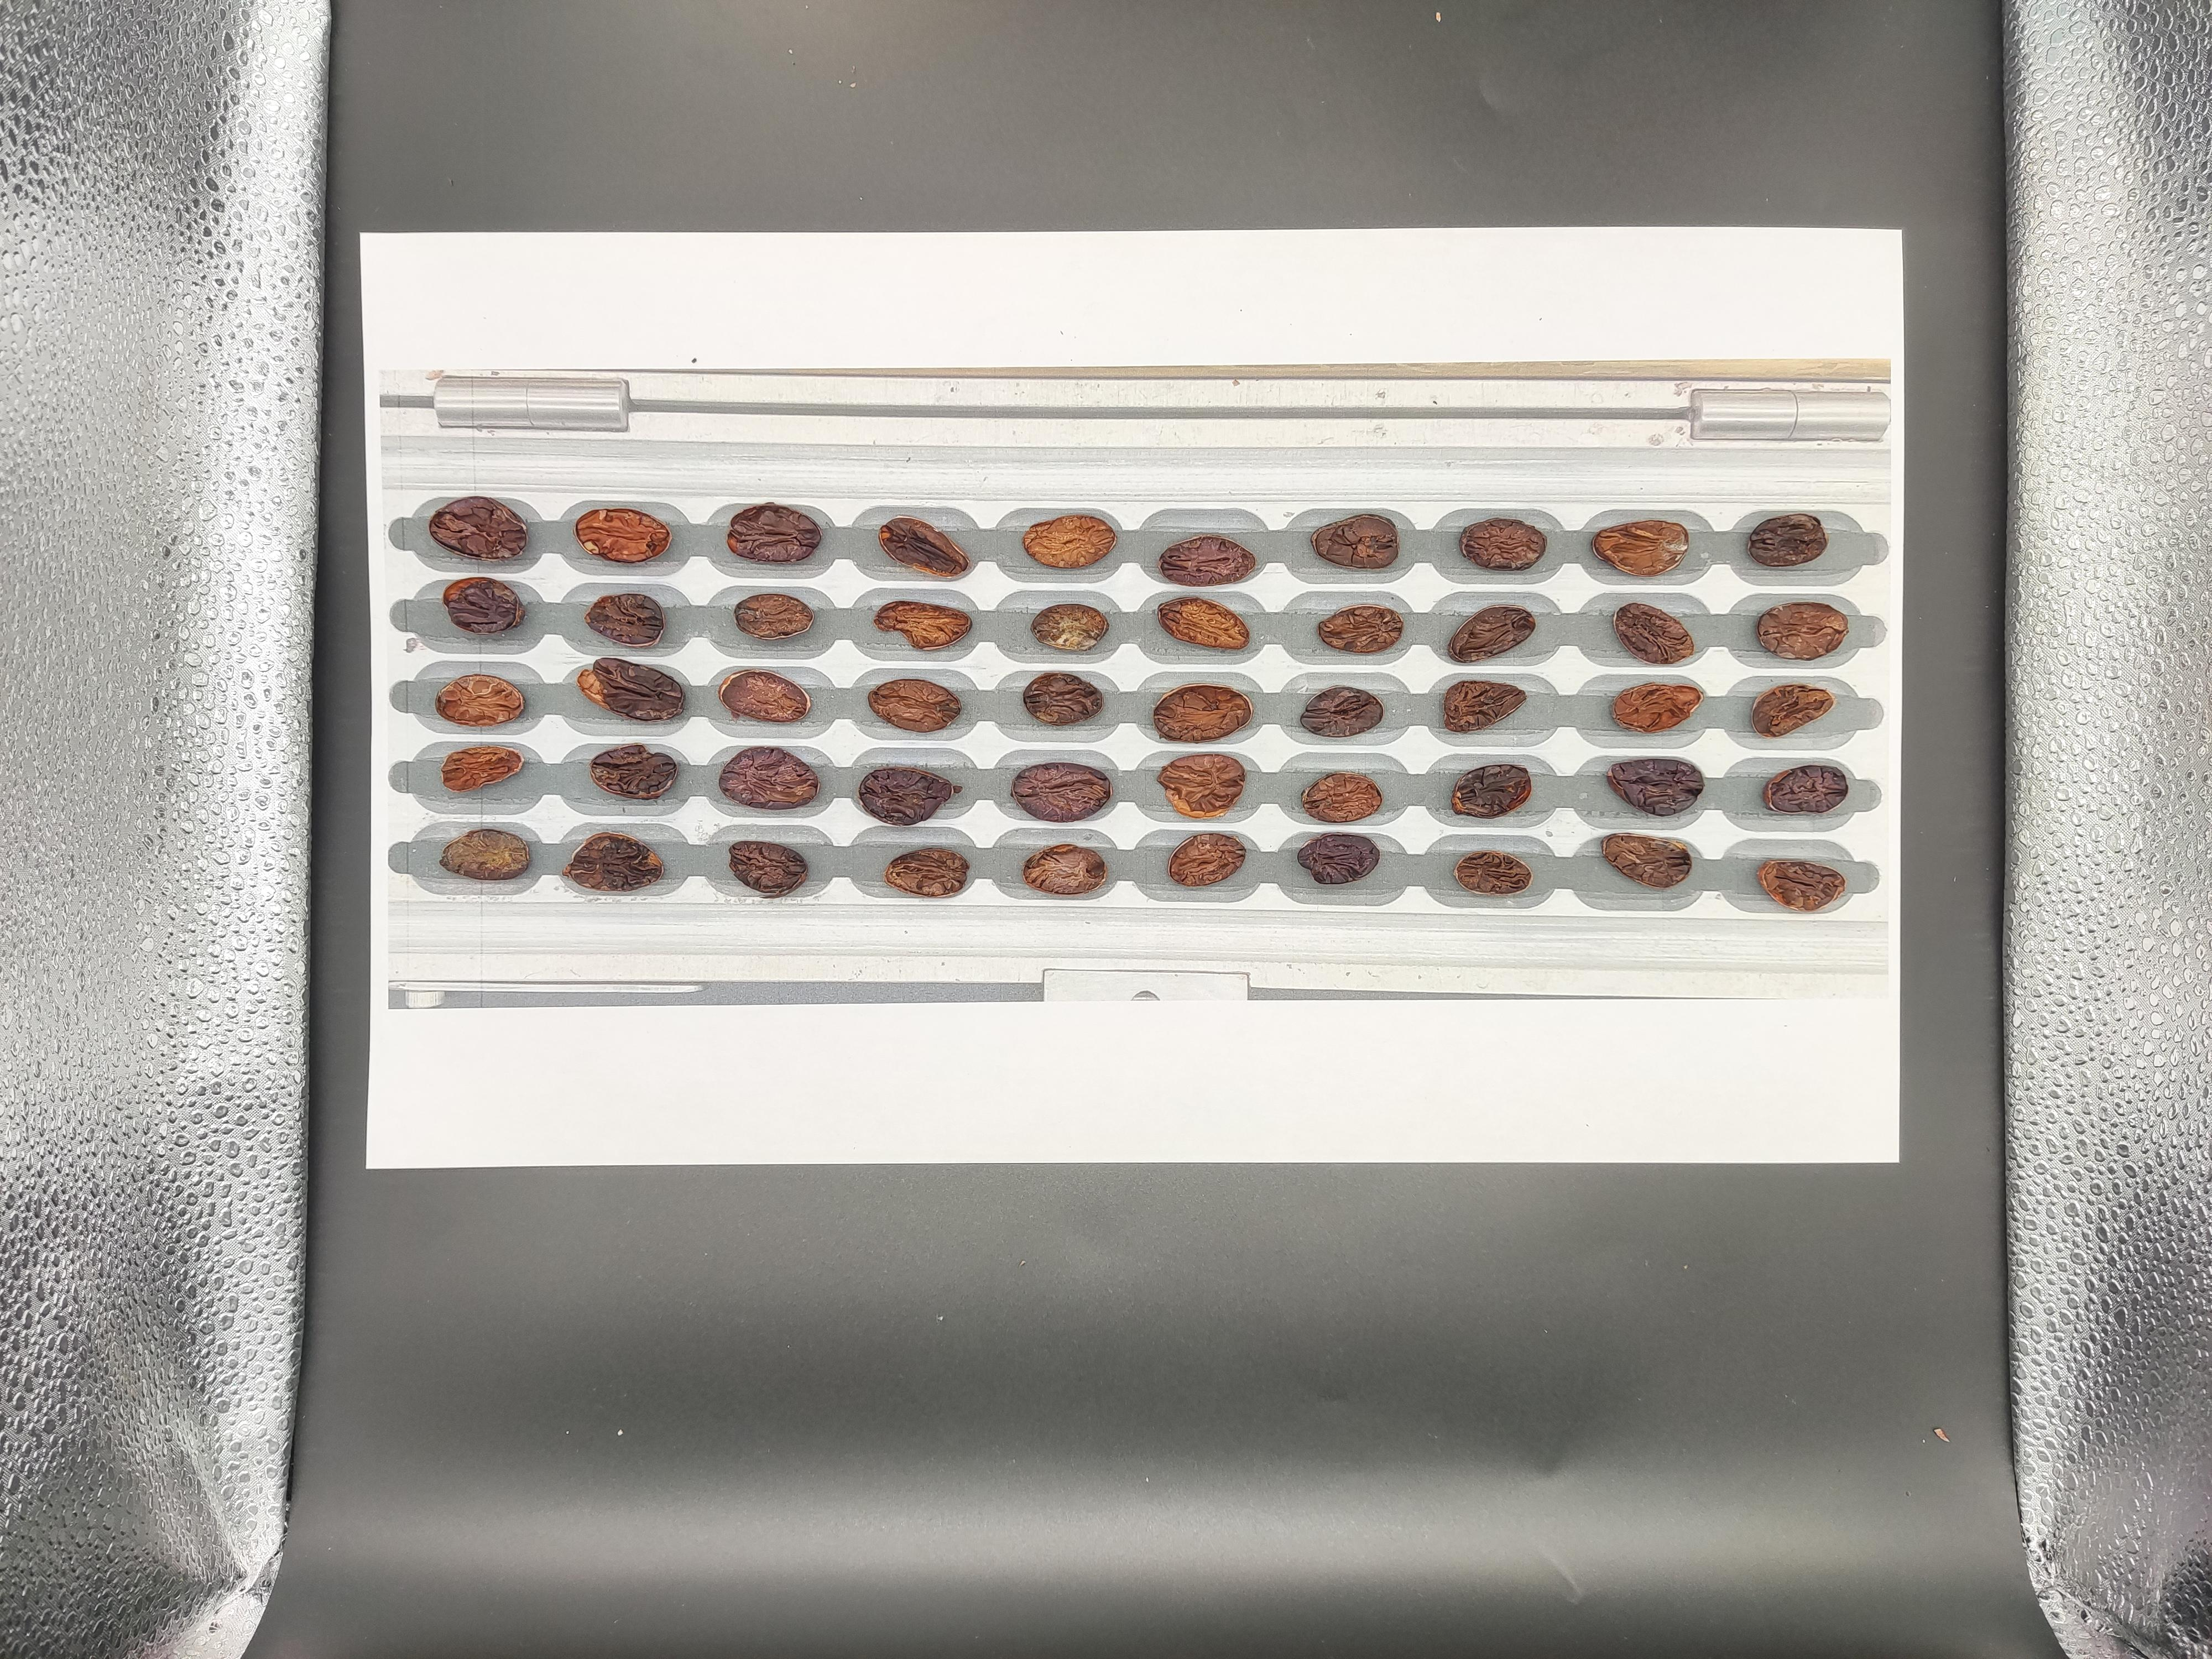Brown - G1: (590, 1197, 641, 1232), (294, 1066, 347, 1100), (449, 1244, 500, 1276), (223, 1190, 272, 1220), (671, 1117, 718, 1147)
Brown - G2: (735, 1157, 782, 1192), (448, 1117, 502, 1145), (822, 1157, 873, 1187), (223, 1155, 272, 1185), (599, 1239, 639, 1270), (589, 1121, 639, 1145), (902, 1249, 948, 1276)
Brown - G3: (587, 1159, 648, 1190), (817, 1234, 869, 1270), (895, 1117, 951, 1150), (826, 1119, 871, 1154), (745, 1077, 794, 1108), (523, 1073, 571, 1103), (897, 1159, 941, 1192), (523, 1241, 568, 1270), (442, 1157, 493, 1183), (665, 1206, 711, 1232)
Brown - G4: (374, 1114, 418, 1141)
Insect-damaged: (218, 1234, 272, 1260)
Mouldy: (815, 1073, 867, 1107), (526, 1121, 568, 1145)
Partly Purple - G1: (298, 1192, 348, 1222), (298, 1107, 340, 1141)
Partly Purple - G2: (368, 1194, 423, 1232), (373, 1065, 423, 1103)
Partly Purple - G3: (587, 1082, 644, 1112)
Partly Purple - G4: (368, 1157, 416, 1187)
Total Purple - G3: (437, 1202, 495, 1236), (517, 1199, 573, 1232), (664, 1236, 709, 1270), (900, 1202, 949, 1227)
Very Dark Brown - G1: (291, 1145, 354, 1187), (293, 1237, 345, 1272), (223, 1107, 272, 1141), (744, 1244, 784, 1272)
Very Dark Brown - G2: (444, 1070, 500, 1110), (214, 1060, 272, 1096), (820, 1197, 874, 1230), (738, 1199, 787, 1234), (371, 1236, 418, 1270), (521, 1155, 568, 1187), (892, 1075, 937, 1105)
Very Dark Brown - G3: (738, 1115, 786, 1152), (672, 1068, 718, 1103), (662, 1155, 709, 1188)
